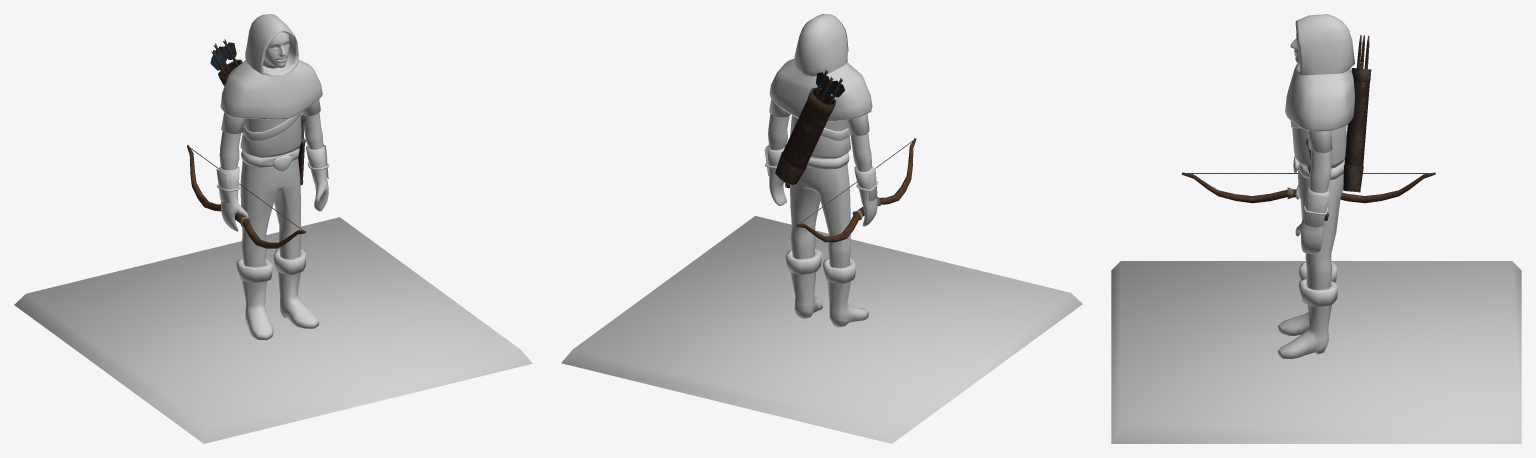
The picture shows the model from 3 angles, left to right: view 1: azimuth 30°, elevation 25°; view 2: azimuth 150°, elevation 25°; view 3: azimuth 270°, elevation 25°; orthographic projection. The views are drawn at different scales.
Visible parts, largest first — view 1: Plane1zeml, Archer_All Body_0, Luk_Weapon_0, archer head, Plastina; view 2: Plane1zeml, Archer_All Body_0, Luk_Weapon_0; view 3: Plane1zeml, Archer_All Body_0, Luk_Weapon_0, Plastina.
Part boxes in pixels (left/top/right/bottom): Plane1zeml: left=14, top=217, right=532, bottom=443; Archer_All Body_0: left=219, top=14, right=328, bottom=340; Luk_Weapon_0: left=187, top=39, right=305, bottom=248; archer head: left=263, top=32, right=289, bottom=68; Plastina: left=216, top=144, right=329, bottom=202; Plane1zeml: left=561, top=216, right=1082, bottom=443; Archer_All Body_0: left=767, top=14, right=877, bottom=327; Luk_Weapon_0: left=775, top=69, right=916, bottom=242; Plane1zeml: left=1111, top=261, right=1521, bottom=443; Archer_All Body_0: left=1278, top=14, right=1354, bottom=358; Luk_Weapon_0: left=1181, top=35, right=1435, bottom=220; Plastina: left=1303, top=194, right=1328, bottom=227.
Size of the model in its own units: 248 by 228 by 248.
